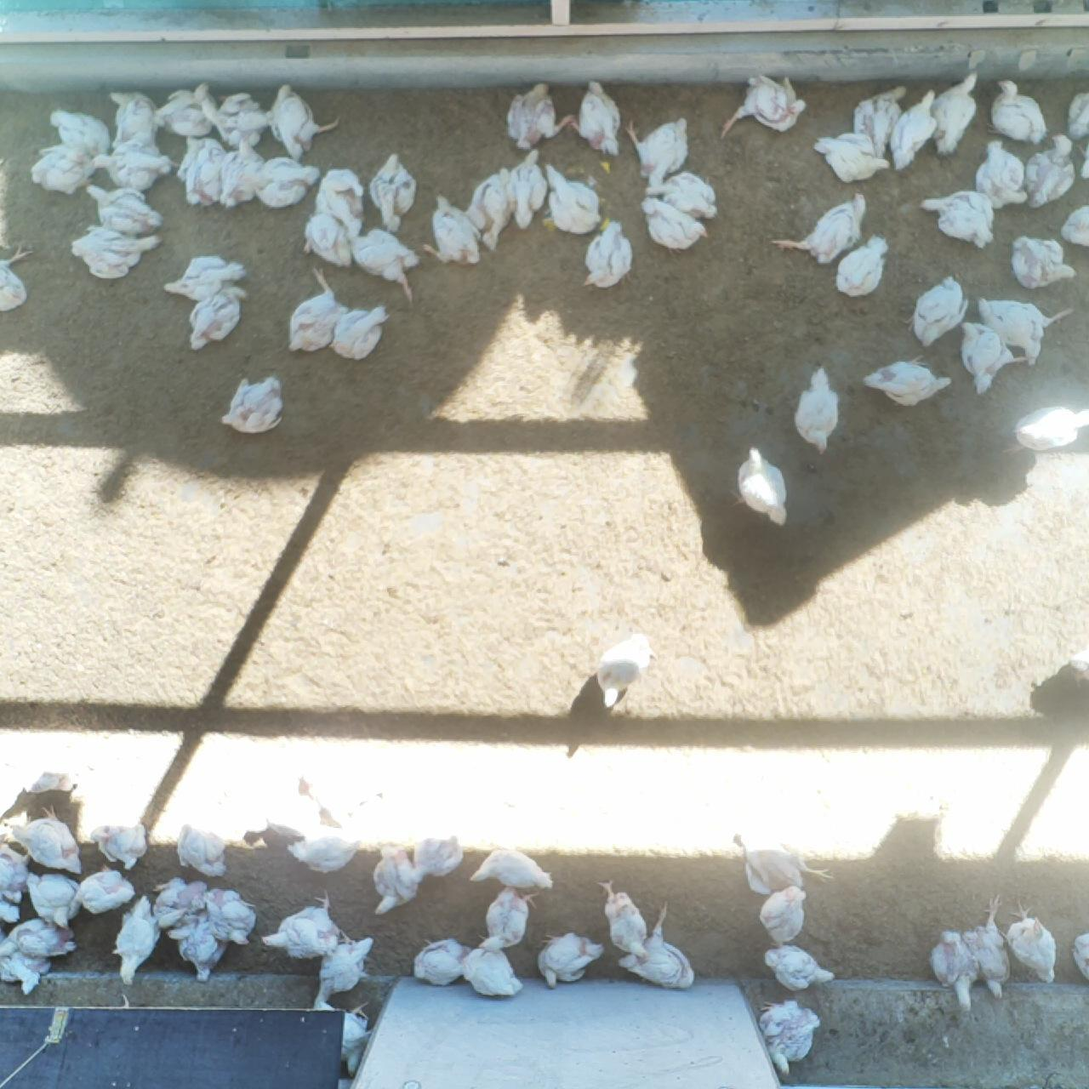chicken: (616, 898, 699, 989), (727, 827, 835, 890), (777, 193, 865, 265), (8, 810, 88, 873), (272, 83, 339, 158), (982, 297, 1058, 363), (348, 225, 420, 294), (285, 271, 343, 356), (540, 163, 607, 235), (721, 78, 807, 134), (201, 85, 277, 148), (922, 190, 1001, 249), (264, 898, 337, 961), (858, 362, 954, 409), (77, 225, 162, 278), (988, 80, 1054, 148), (960, 320, 1023, 391), (301, 776, 390, 826), (595, 634, 653, 710), (1005, 403, 1089, 455), (1007, 908, 1060, 990), (88, 181, 168, 235), (969, 893, 1011, 995), (910, 276, 969, 347), (816, 133, 896, 185), (792, 365, 842, 448), (735, 445, 787, 524), (507, 78, 568, 145), (601, 879, 652, 959), (148, 874, 214, 935), (472, 847, 561, 892), (935, 927, 982, 1012), (254, 154, 330, 206), (931, 66, 978, 149), (185, 288, 245, 353), (972, 135, 1030, 202), (315, 933, 376, 996), (220, 378, 286, 436), (421, 196, 483, 257), (631, 117, 688, 183), (179, 913, 230, 986), (311, 168, 371, 230), (117, 898, 159, 986), (468, 168, 515, 246), (890, 91, 937, 168), (25, 145, 94, 196), (481, 886, 533, 953), (537, 929, 597, 987), (762, 945, 844, 987), (582, 224, 635, 288), (638, 199, 705, 249), (835, 234, 887, 298), (215, 143, 266, 208), (855, 83, 904, 150), (105, 88, 159, 148), (1014, 235, 1075, 288), (1025, 139, 1070, 209), (31, 869, 80, 933), (208, 885, 261, 944), (578, 78, 619, 154), (166, 256, 247, 294), (650, 171, 721, 214), (154, 91, 216, 140), (334, 307, 391, 360), (465, 945, 524, 995), (72, 868, 134, 915), (301, 209, 357, 261), (176, 823, 228, 879), (241, 797, 315, 836), (94, 819, 152, 868), (46, 107, 105, 155), (770, 1002, 812, 1069), (28, 876, 80, 930), (294, 829, 363, 869), (758, 889, 809, 943), (408, 940, 469, 984), (374, 848, 414, 915), (374, 156, 409, 231), (187, 142, 228, 203), (25, 915, 81, 959), (512, 152, 544, 228), (5, 934, 49, 988), (28, 756, 86, 795), (411, 833, 465, 874), (1, 244, 27, 313), (345, 1003, 370, 1066), (1066, 89, 1089, 145), (2, 851, 18, 921), (1058, 208, 1089, 243), (1070, 651, 1089, 682), (1075, 933, 1089, 975), (315, 990, 335, 1006), (1080, 150, 1089, 184)
